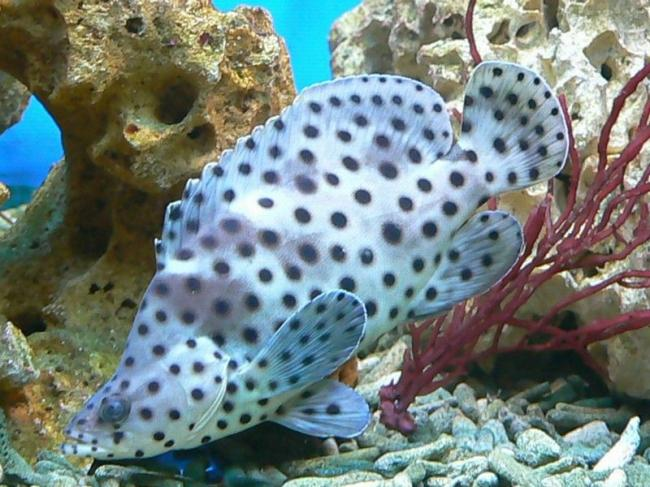fish: (61, 62, 570, 461)
